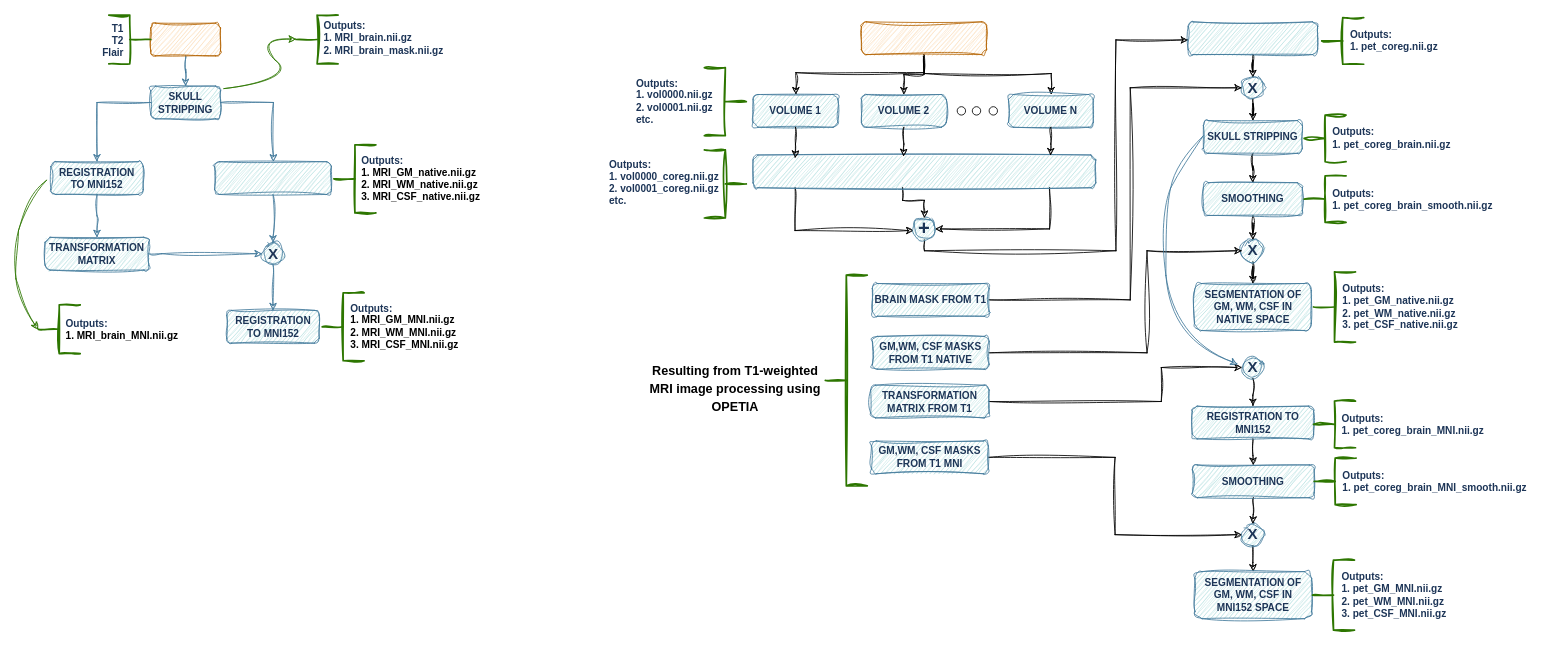
Some shapes in this 1555 by 646 pixel diagram are drawn without their labels. The shapes that lost their labels are listed below. From the top down, each one's box as (x1, y1, x2, y2) in pixels, then its label:
(150, 22, 220, 56): MRI IMAGE
(861, 21, 987, 55): DYNAMIC PET IMAGE
(1187, 21, 1318, 55): STATIC PET IMAGE
(214, 161, 331, 194): SEGMENTATION OF GM, WM, CSF
(752, 154, 1096, 188): COREGISTRATION TO T1 SPACE
